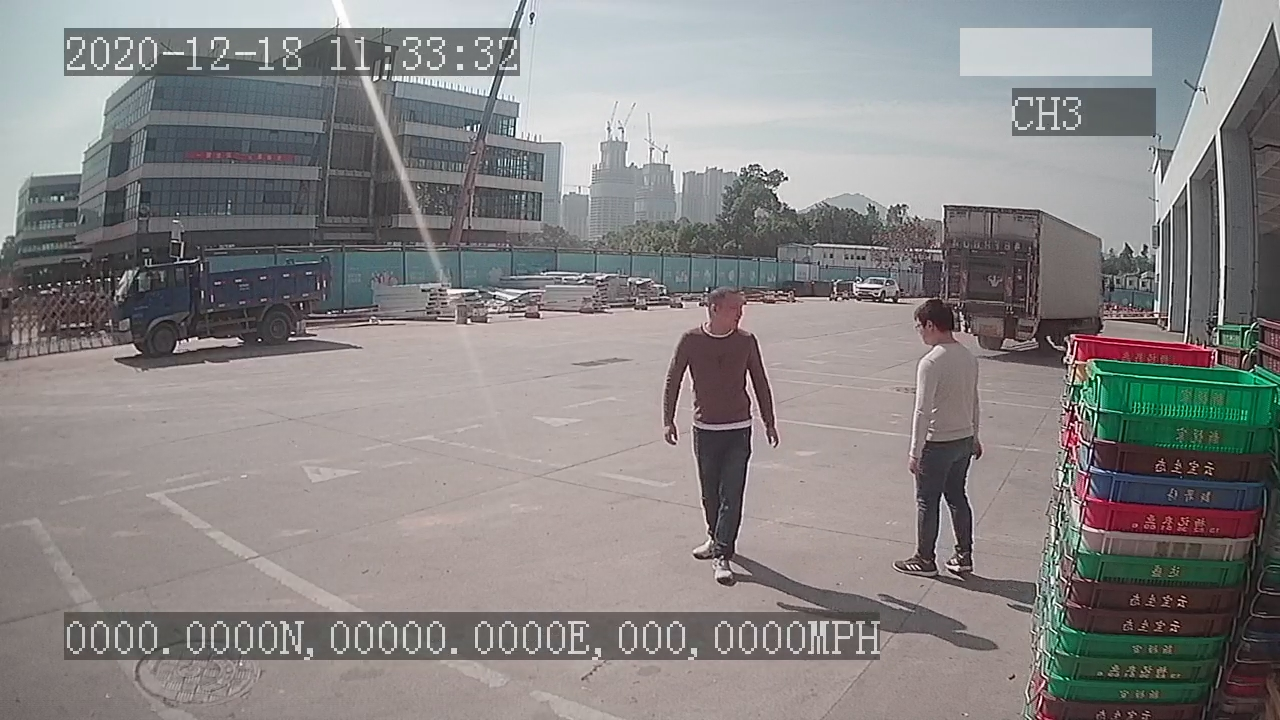person: (660, 279, 781, 583)
